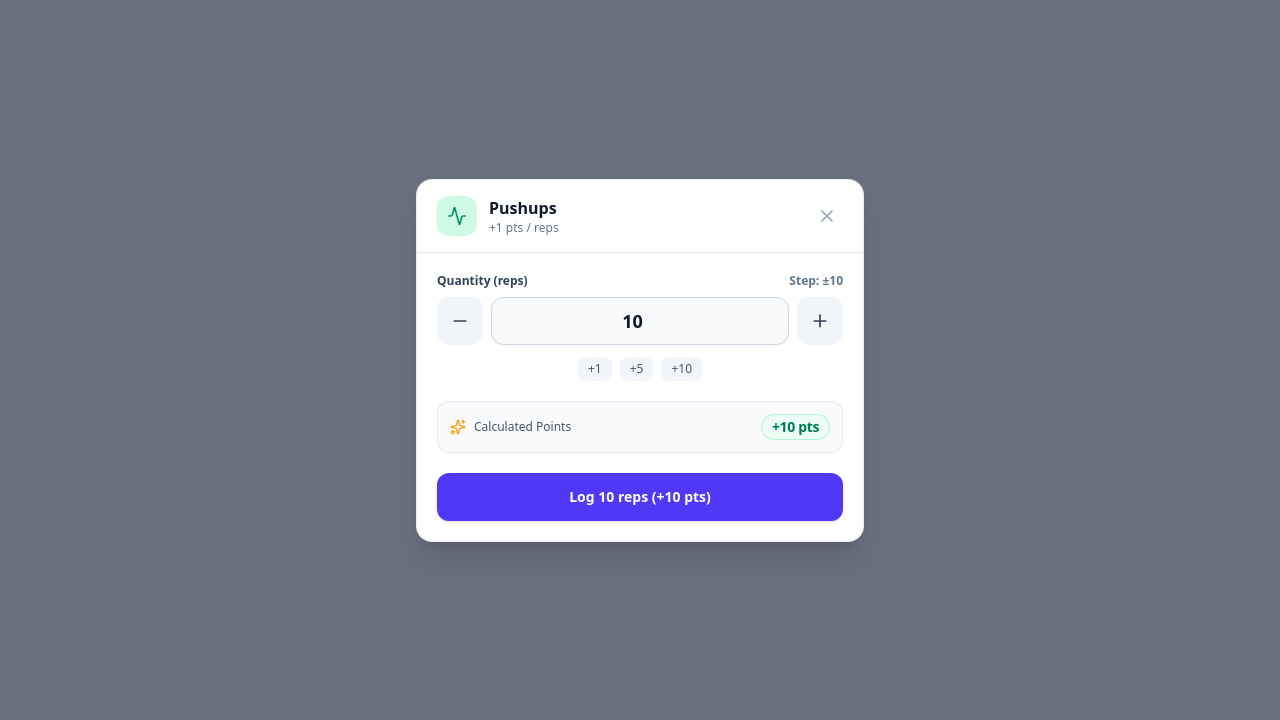
Test: QuantityStepperModal › increments and decrements quantity by defaultIncrement
The width and height of the screenshot is (1280, 720).
What coordinates should you click on to do the following:
click the button with test id "quantity-increment-btn"
I would click on:
 (820, 320)
Its box is 797,296 -> 843,344.
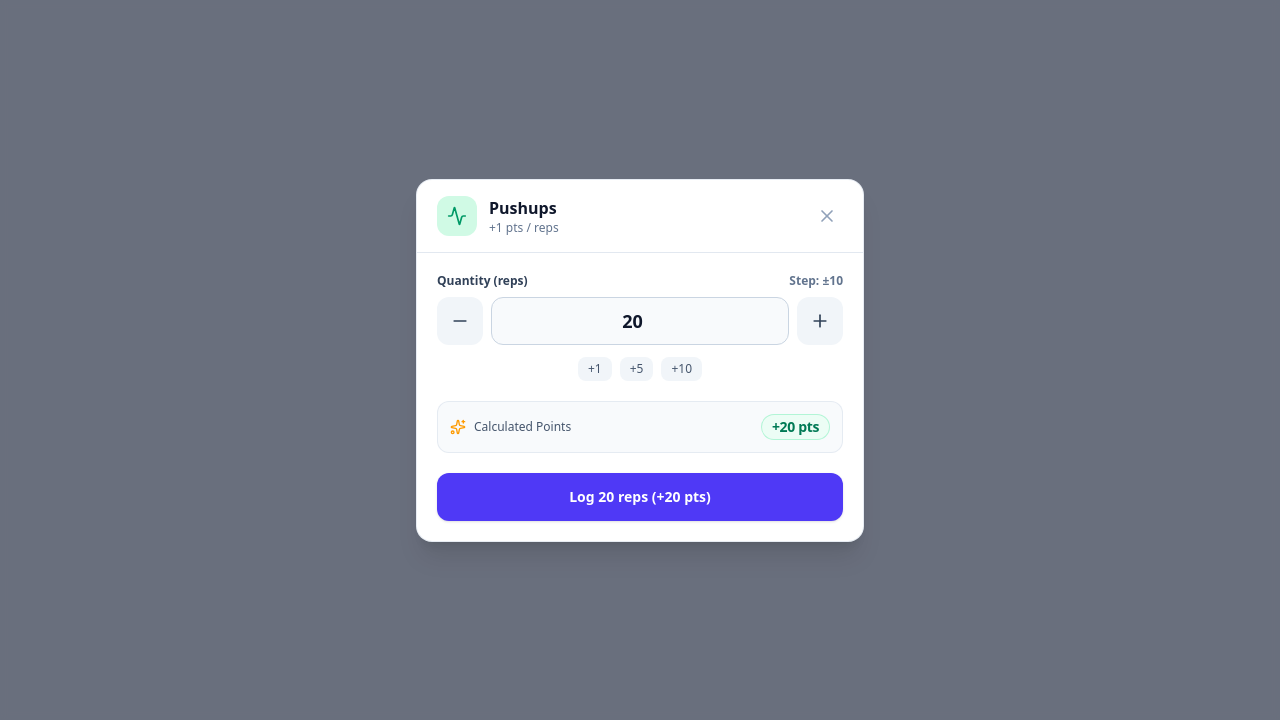
Expected: the number field with test id "quantity-input" holds "20", 491,296 -> 789,344
What coordinates should you click on to do the following:
click the button with test id "quantity-decrement-btn"
I would click on:
 (460, 320)
Its box is 437,296 -> 483,344.
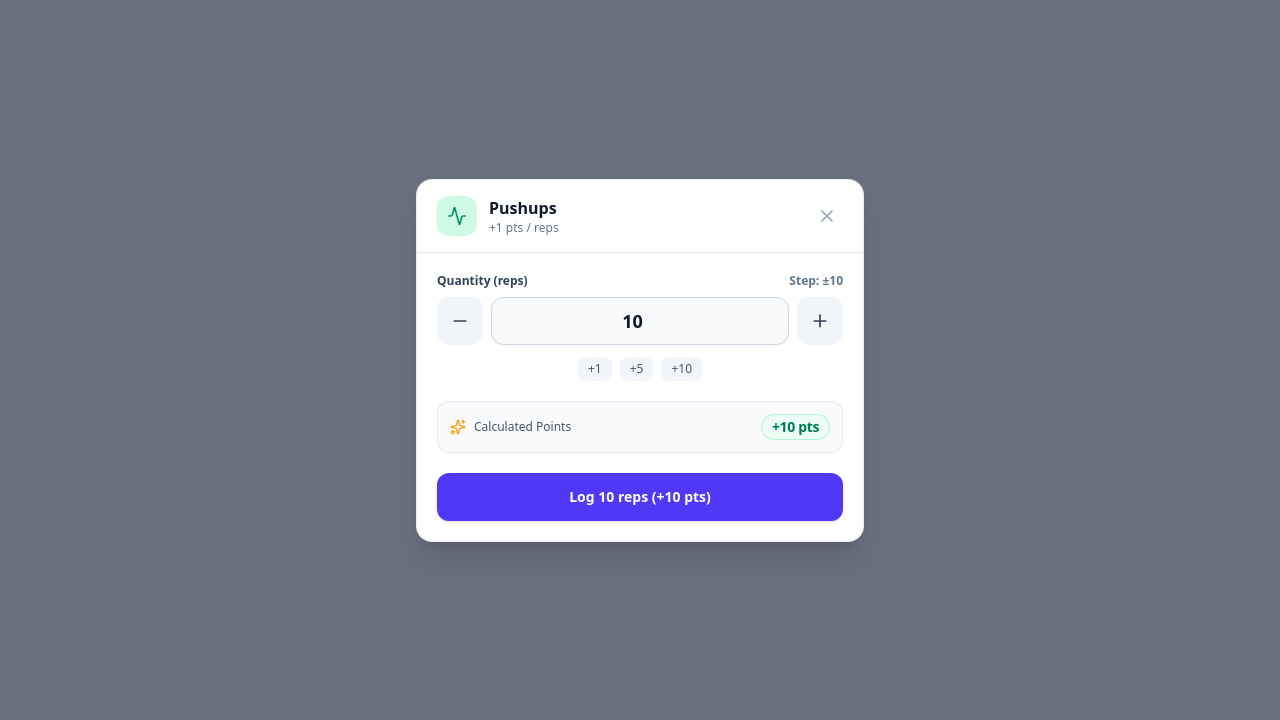
Expected: the number field with test id "quantity-input" holds "10", 491,296 -> 789,344
